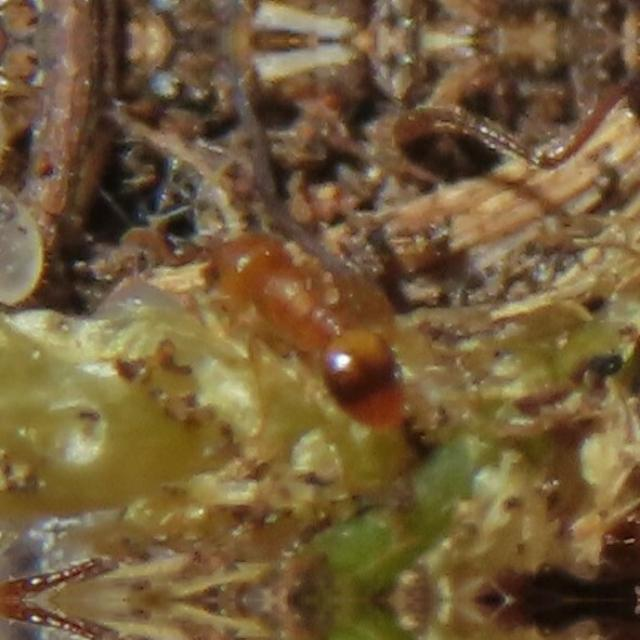Temnothorax: (159, 184, 447, 440)
